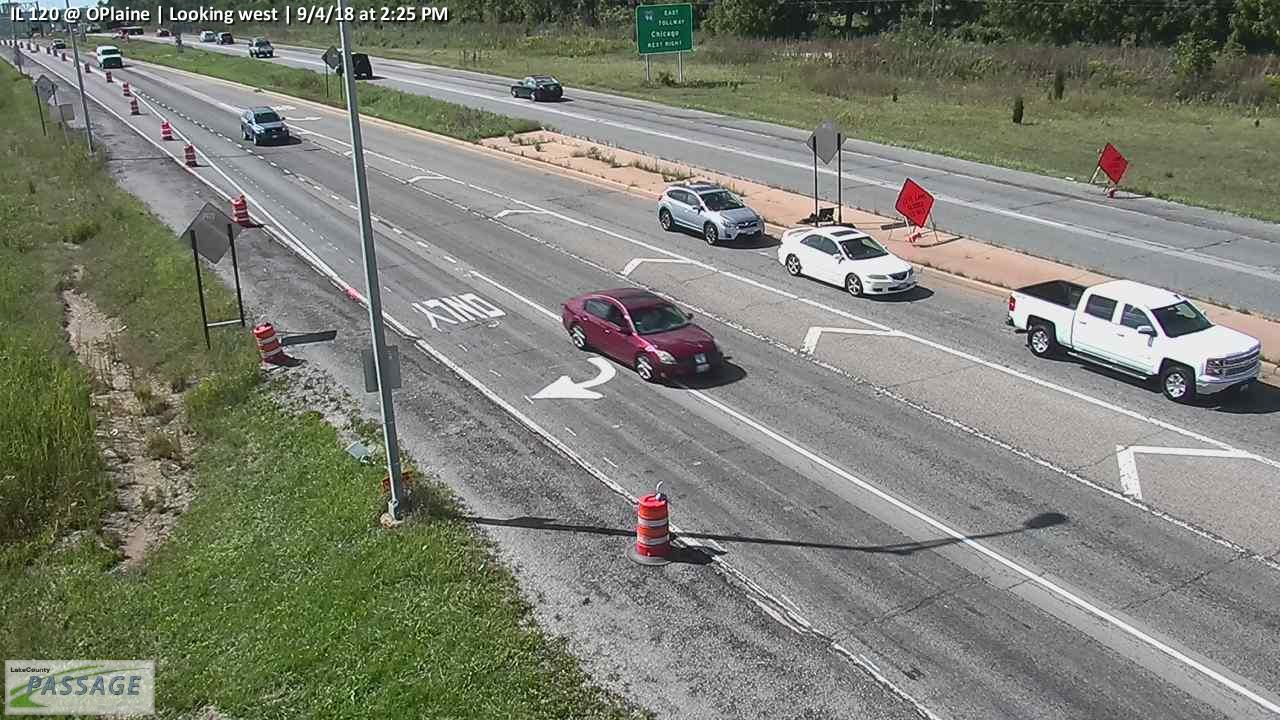SUV: (655, 179, 767, 247), (240, 106, 290, 145), (95, 45, 123, 69), (217, 31, 234, 45), (199, 30, 217, 42)
Sedan: (560, 286, 724, 383), (776, 225, 916, 296), (510, 76, 563, 103), (50, 39, 66, 49), (156, 28, 170, 38)
Truck: (1005, 279, 1262, 404), (248, 36, 274, 57)
